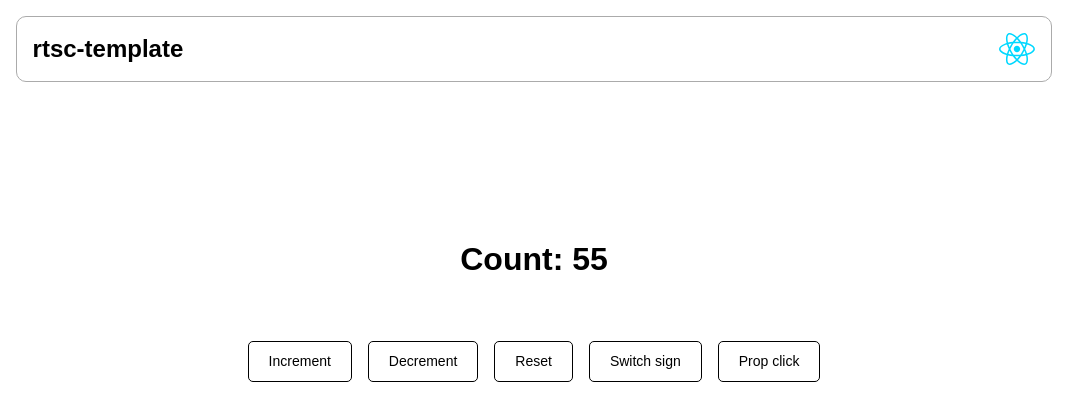
Test case: Counter › Count should increase by 1 if the increment button is clicked
Expected: the text with test id "count" reads "55", [572,241,608,277]
Click the button "Increment" at (300, 361), box [248,341,352,382]
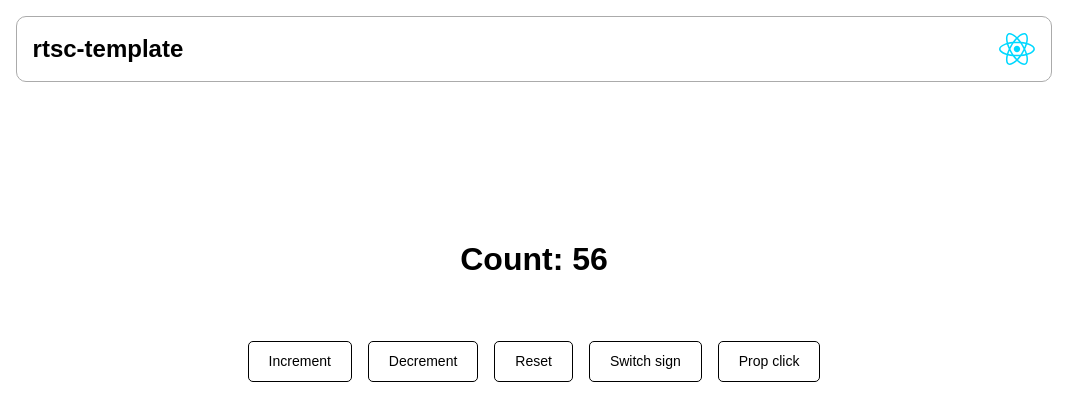
Expected: the text with test id "count" reads "56", [572,241,608,277]
